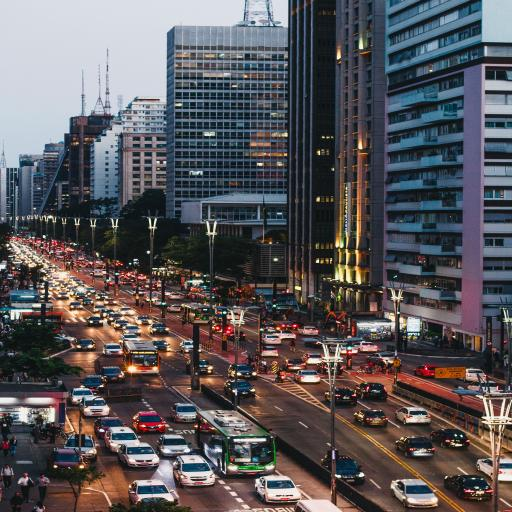bike: (357, 366, 381, 374), (258, 365, 270, 374), (290, 345, 296, 353)
car: (391, 479, 437, 508), (173, 455, 215, 486), (255, 476, 301, 503), (444, 475, 492, 500), (118, 443, 159, 467), (104, 427, 140, 452), (65, 434, 97, 462), (47, 448, 85, 469), (336, 455, 364, 483), (396, 437, 435, 457), (431, 429, 470, 449), (157, 435, 191, 456), (133, 412, 165, 433), (94, 417, 124, 438), (395, 407, 431, 424), (79, 397, 109, 416), (355, 410, 388, 426), (224, 380, 255, 397), (355, 383, 387, 399), (228, 364, 257, 380), (81, 376, 106, 392), (70, 388, 94, 404), (317, 362, 343, 376), (335, 388, 357, 404), (102, 367, 125, 382), (468, 381, 499, 392), (294, 370, 320, 383), (367, 352, 394, 364), (354, 341, 378, 353), (414, 365, 438, 377), (464, 369, 486, 382), (499, 458, 511, 481), (282, 359, 306, 370), (262, 333, 282, 345), (302, 353, 323, 364), (103, 344, 122, 356), (149, 323, 169, 334), (56, 334, 77, 344), (152, 340, 171, 351), (259, 345, 278, 356), (302, 338, 322, 348), (76, 340, 96, 350), (119, 334, 139, 344), (199, 360, 213, 374), (113, 317, 129, 329), (298, 326, 319, 335), (107, 312, 122, 324), (278, 330, 296, 339), (123, 325, 141, 334), (280, 322, 303, 329), (101, 308, 115, 319), (263, 322, 276, 332), (119, 307, 135, 315), (136, 316, 150, 325), (88, 317, 103, 325), (82, 298, 95, 307), (166, 292, 182, 299), (69, 302, 82, 310), (168, 304, 181, 312), (93, 304, 105, 312), (75, 292, 87, 300), (104, 298, 117, 305), (226, 330, 235, 340), (96, 292, 107, 300), (58, 292, 69, 299), (86, 287, 95, 295), (121, 279, 132, 285), (49, 285, 59, 290), (199, 346, 202, 353)
